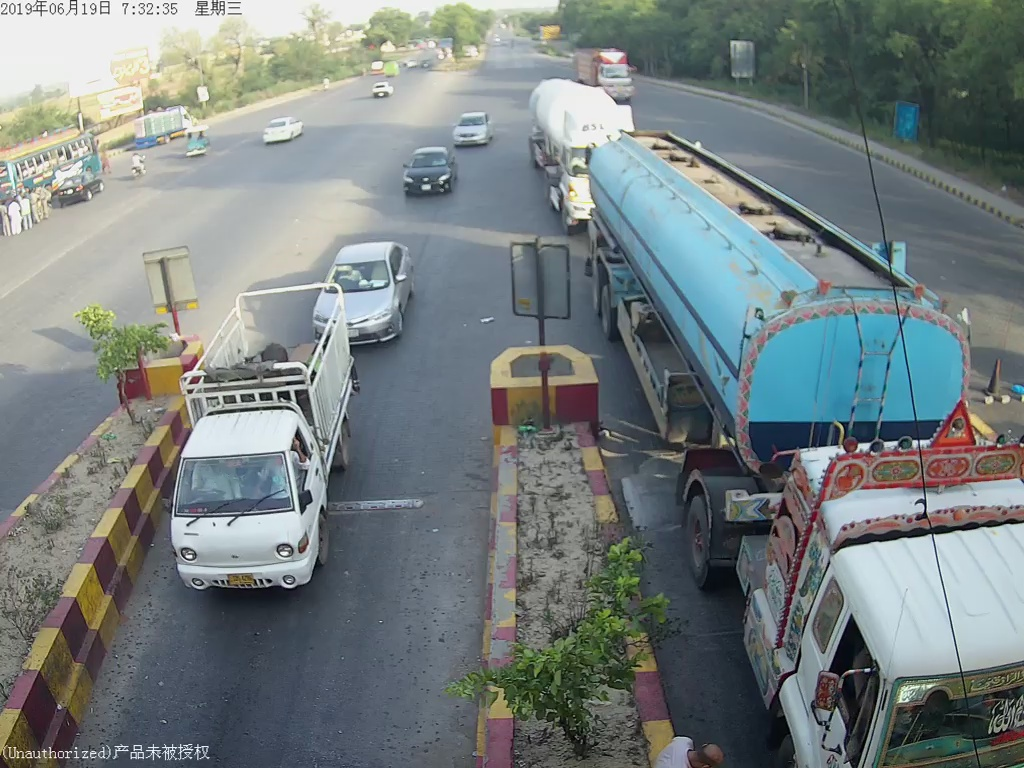Cat-1: (398, 149, 453, 200)
Cat-2: (162, 276, 365, 605)
Cat-5: (588, 129, 1022, 768)
